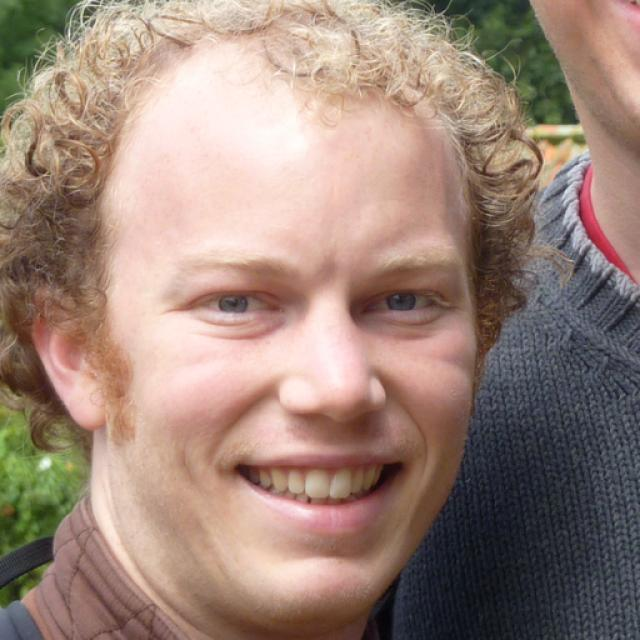0_rostro_limpio: (35, 0, 474, 627)
